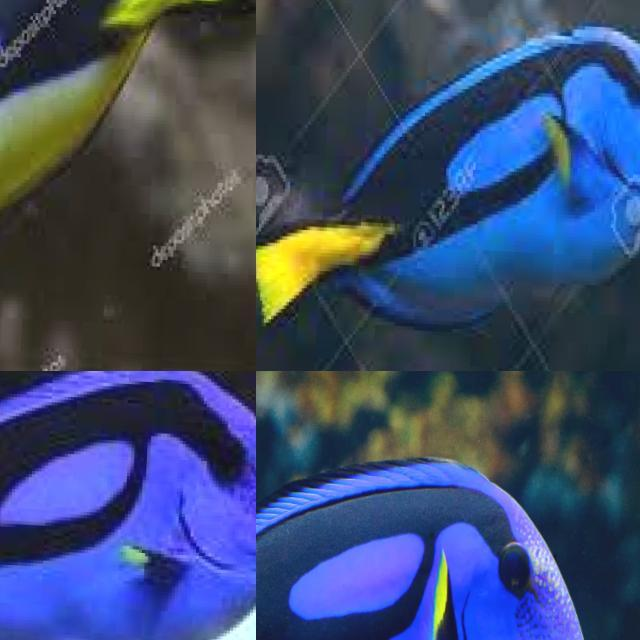BlueTang: (265, 31, 631, 328), (0, 371, 256, 640), (256, 462, 581, 640), (0, 0, 189, 211)
